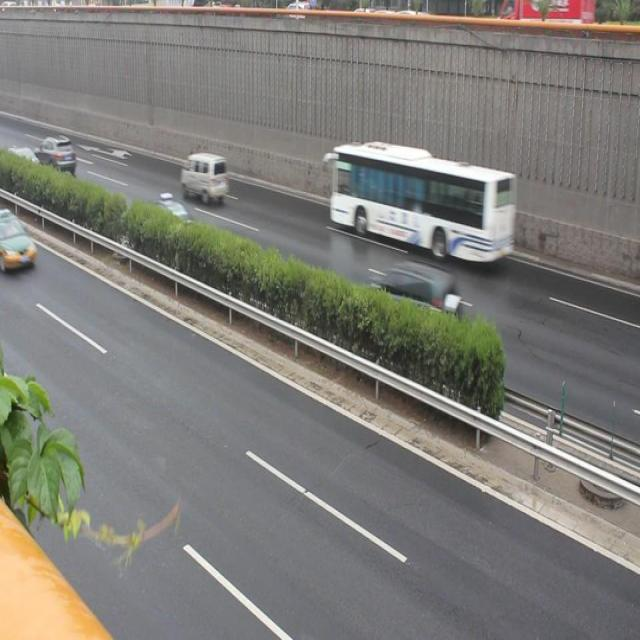car: (372, 258, 465, 337), (1, 204, 40, 278), (150, 192, 193, 242), (33, 132, 76, 176), (1, 144, 43, 178)
truck: (178, 146, 230, 202)
van: (327, 140, 508, 267)
